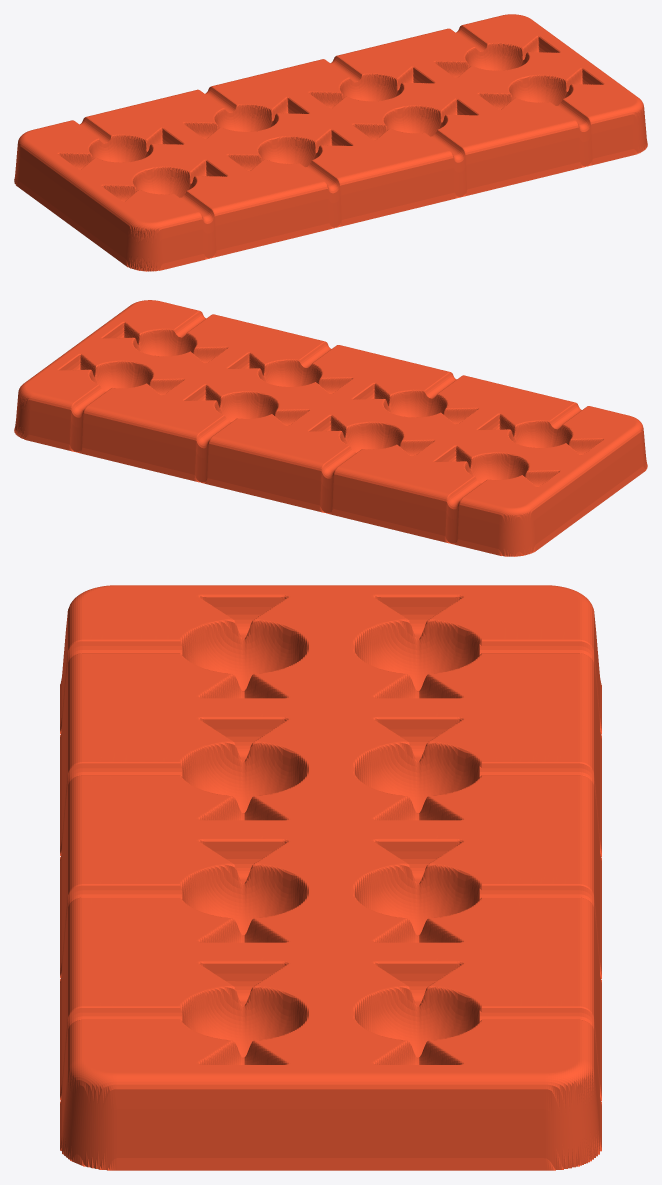
File: mold.glb
The picture shows the model from 3 angles, top to bottom: view 1: azimuth 30°, elevation 25°; view 2: azimuth 150°, elevation 25°; view 3: azimuth 270°, elevation 25°; orthographic projection. The views are drawn at different scales.
Visible parts, largest first — view 1: geometry_0; view 2: geometry_0; view 3: geometry_0.
Part boxes in pixels (left/top/right/bottom): geometry_0: left=14, top=14, right=647, bottom=271; geometry_0: left=14, top=300, right=647, bottom=556; geometry_0: left=60, top=585, right=601, bottom=1170.
Bounding box in the file's own units: 0.1907 × 0.0155 × 0.0864.
